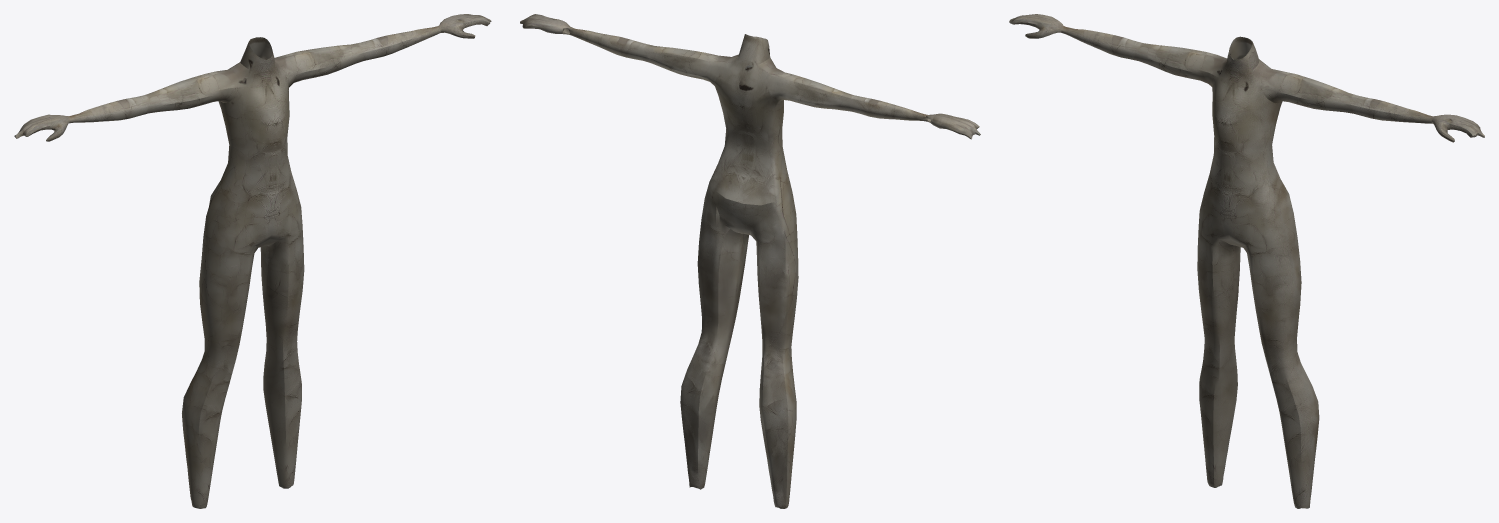
File: maneking (1).fbx
3 views of the same model, side by side, from view 1: azimuth 30°, elevation 25°; view 2: azimuth 150°, elevation 25°; view 3: azimuth 330°, elevation 25° (orthographic). The views are drawn at different scales.
Visible parts, largest first — view 1: Mesh0; view 2: Mesh0; view 3: Mesh0.
Part boxes in pixels (box(x1,y1,x2,y2)): Mesh0: box(14, 14, 491, 508); Mesh0: box(520, 14, 980, 508); Mesh0: box(1009, 14, 1484, 508).
Size of the model in its own units: 198 by 187 by 30.23.
1 material, 1 textured.
